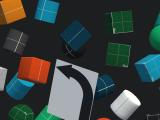Left: (46, 59, 98, 120)
